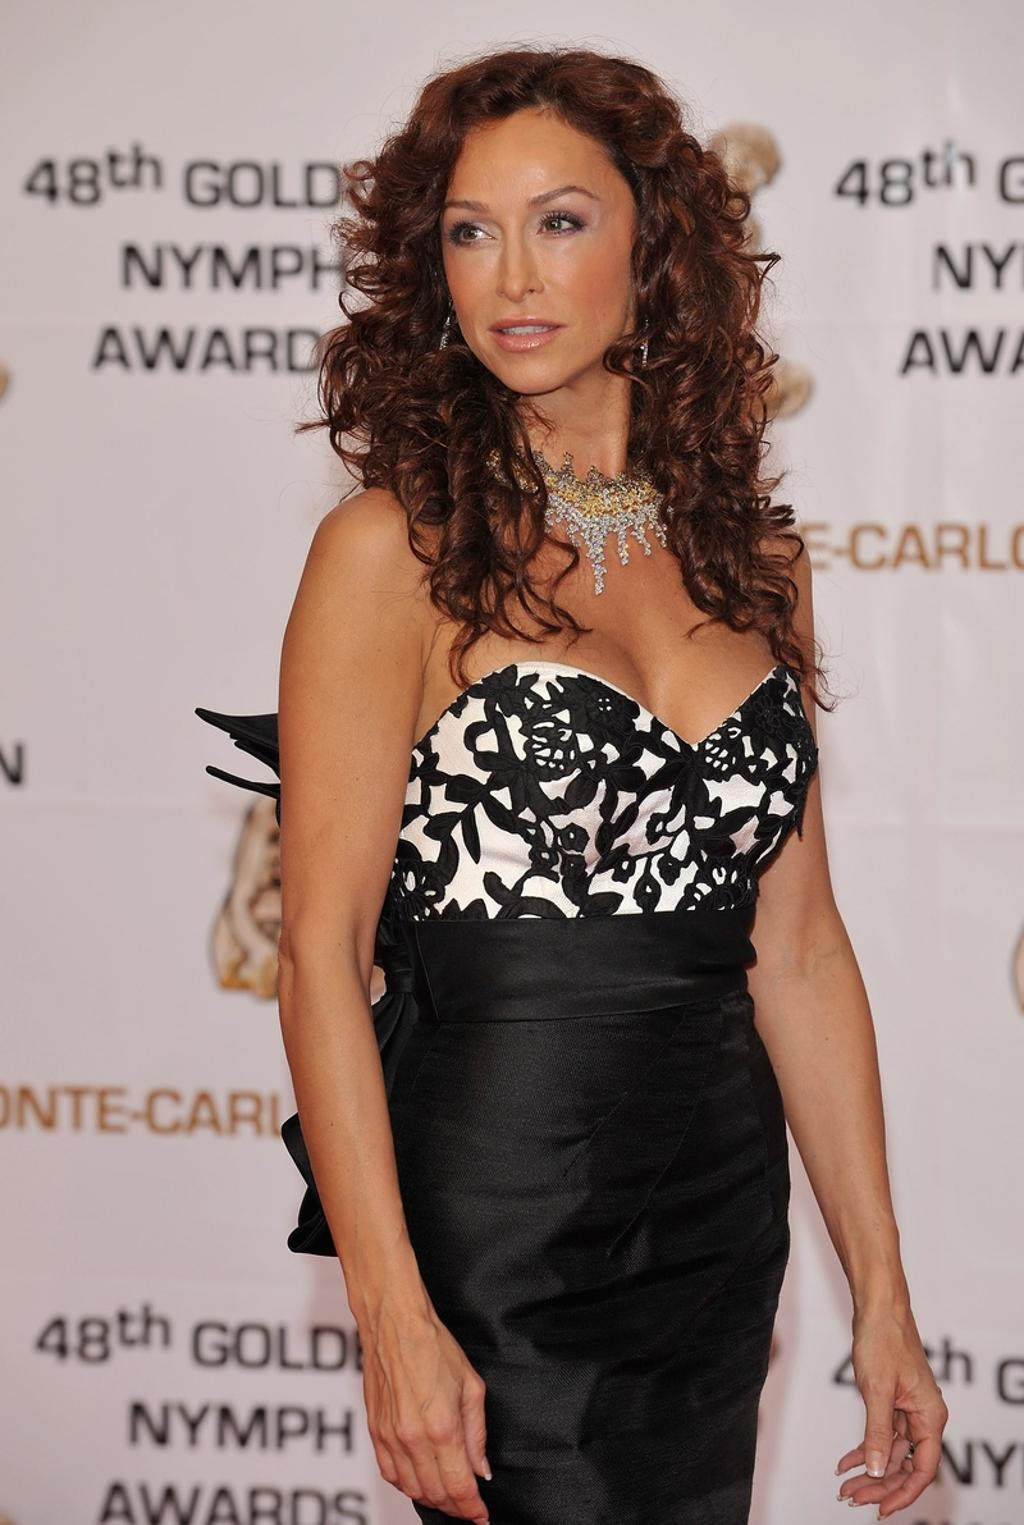face: (438, 113, 634, 393)
